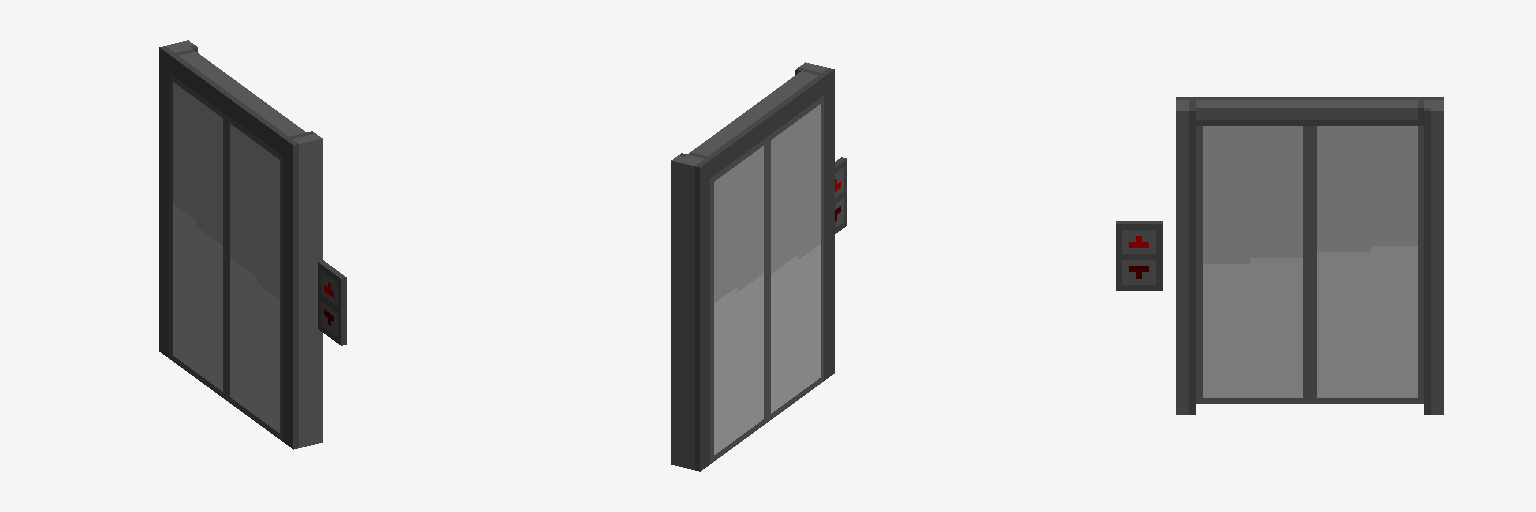
The picture shows the model from 3 angles: view 1: azimuth 30°, elevation 25°; view 2: azimuth 150°, elevation 25°; view 3: azimuth 270°, elevation 25°; orthographic projection.
Visible parts, largest first — view 1: object 1; view 2: object 1; view 3: object 1.
Boxes of the visible parts, x1=… form: object 1: x1=159, y1=40, x2=346, y2=449; object 1: x1=671, y1=62, x2=846, y2=471; object 1: x1=1116, y1=97, x2=1443, y2=414.
Bounding box in the file's own units: 0.5 × 5 × 4.9.
1 materials, 1 textured.